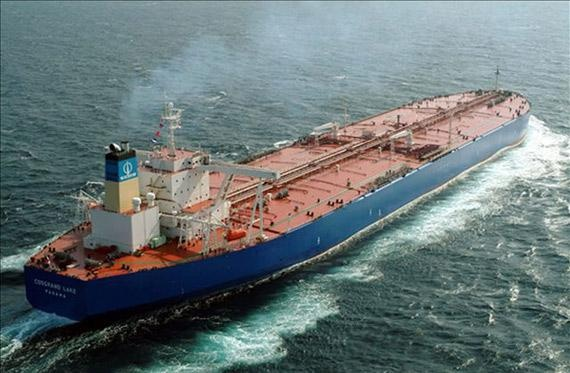Cargoship: (31, 64, 536, 313)
